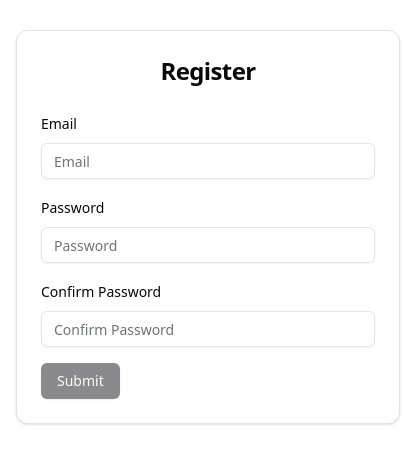
Test case: Register Form › Handle Errors › should show confirm password error message on invalid confirm password
Expected: the text "String must contain at least 4 character(s)" is not shown
Step 1. Type "alireza@test.com" into the field labelled "Email" → (208, 161), box left=41, top=143, right=375, bottom=179
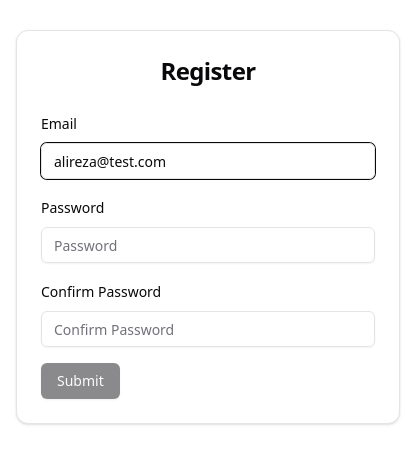
Step 2. Type "1234" into the password field labelled "Password" → (208, 245), box left=41, top=227, right=375, bottom=263
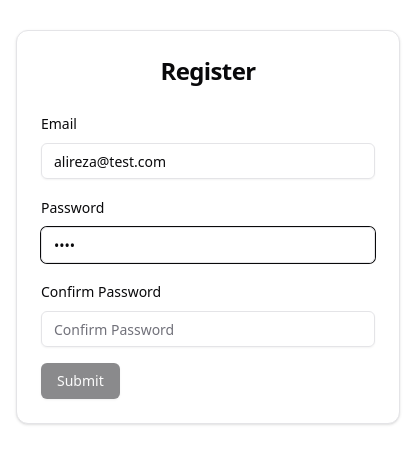
Step 3. Type "123" into the password field labelled "Confirm Password" → (208, 329), box left=41, top=311, right=375, bottom=347
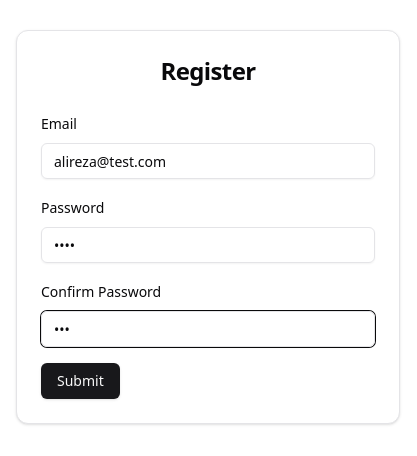
Step 4. Click the button "Submit" → (80, 381), box left=41, top=363, right=120, bottom=399
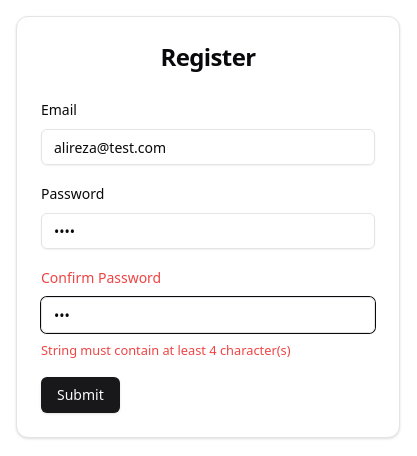
Now the text "String must contain at least 4 character(s)" is shown, box left=41, top=341, right=290, bottom=359
